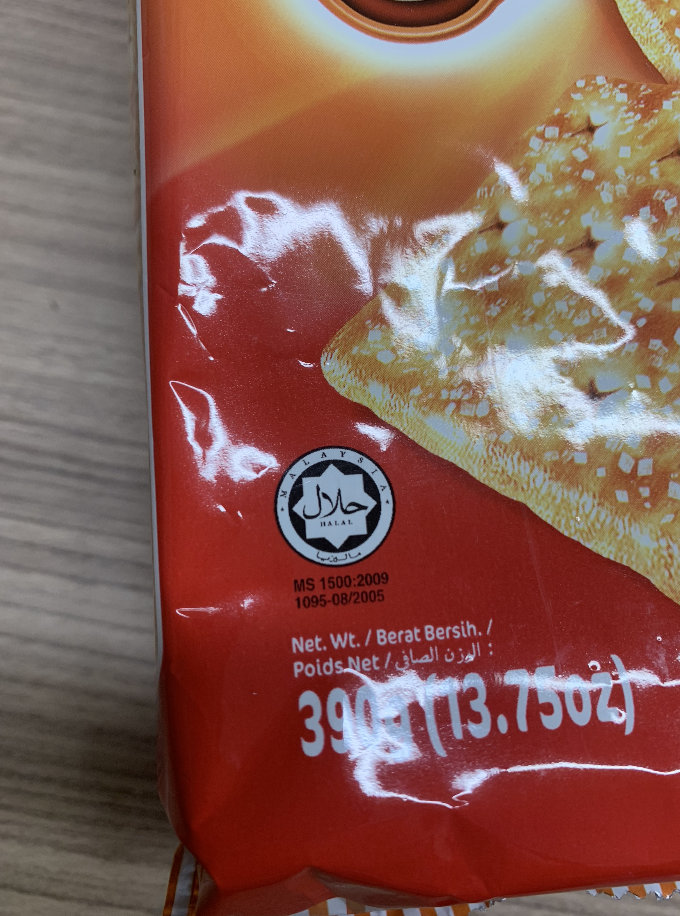halal: (291, 463, 374, 542)
